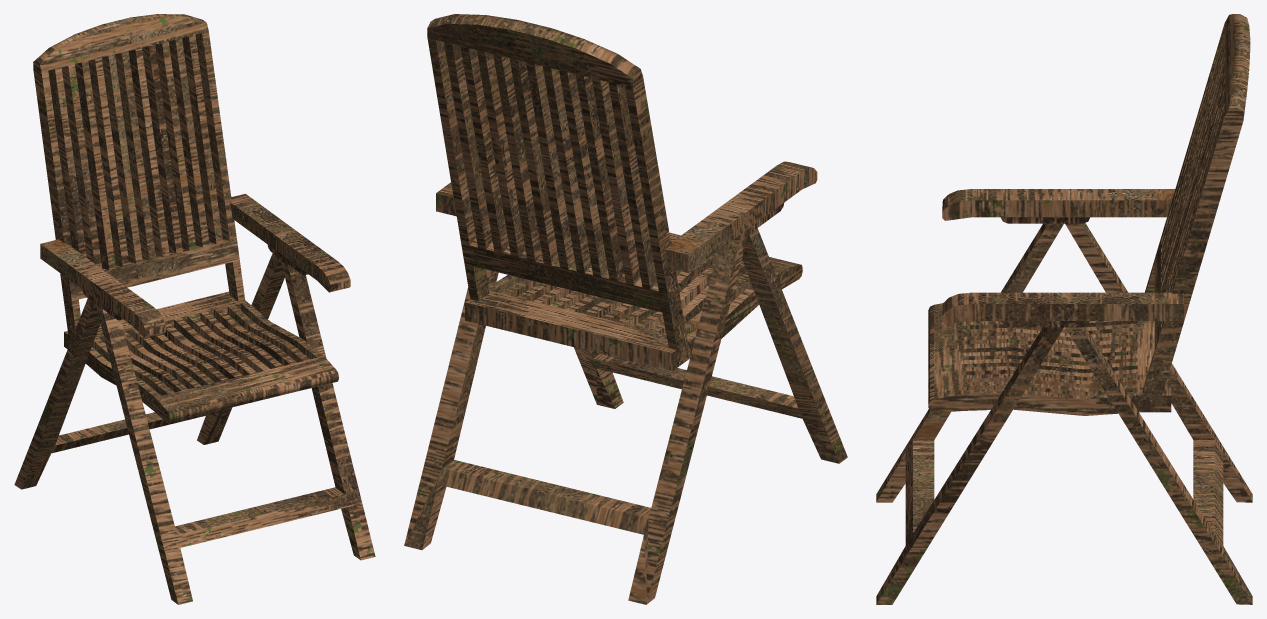
File: m_chair.fbx
3 renders of one model, left to right at view 1: azimuth 30°, elevation 25°; view 2: azimuth 150°, elevation 25°; view 3: azimuth 270°, elevation 25°, orthographic. The views are drawn at different scales.
Visible parts, largest first — view 1: pCube337; view 2: pCube337; view 3: pCube337.
Boxes of the visible parts, box(x1,y1,x2,y2) form: pCube337: box(14, 14, 375, 604); pCube337: box(404, 14, 847, 604); pCube337: box(876, 14, 1252, 604).
Size of the model in its own units: 240 by 496 by 332.
